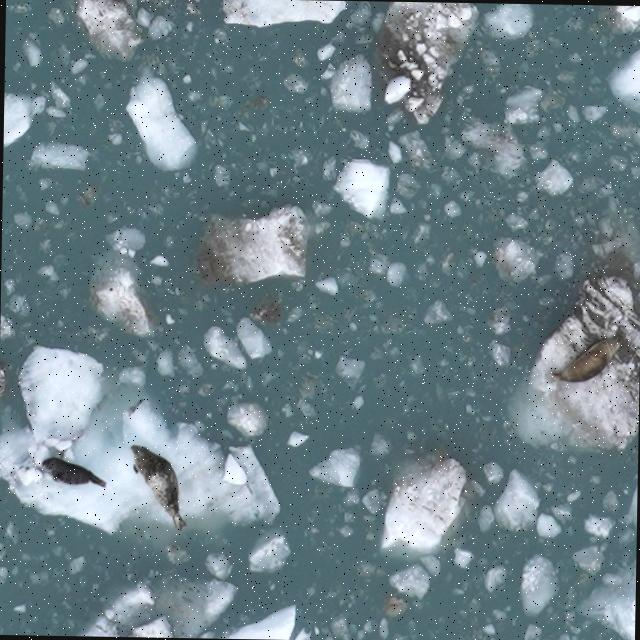seal: (123, 441, 193, 534), (547, 329, 630, 389), (34, 452, 110, 490)
